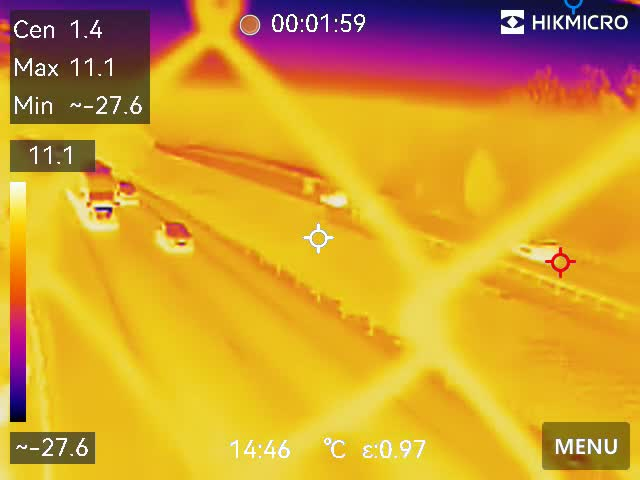heavyTruck: (64, 156, 121, 236)
vehicle: (153, 214, 191, 253), (114, 177, 142, 204)
